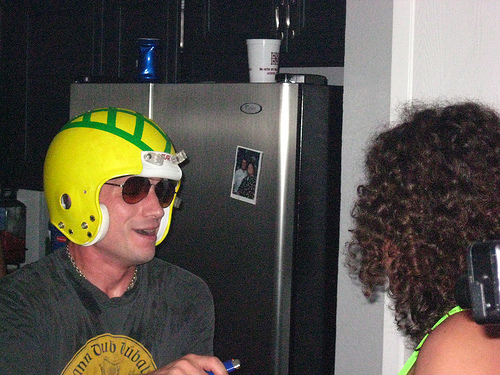helmet: (45, 111, 187, 209)
